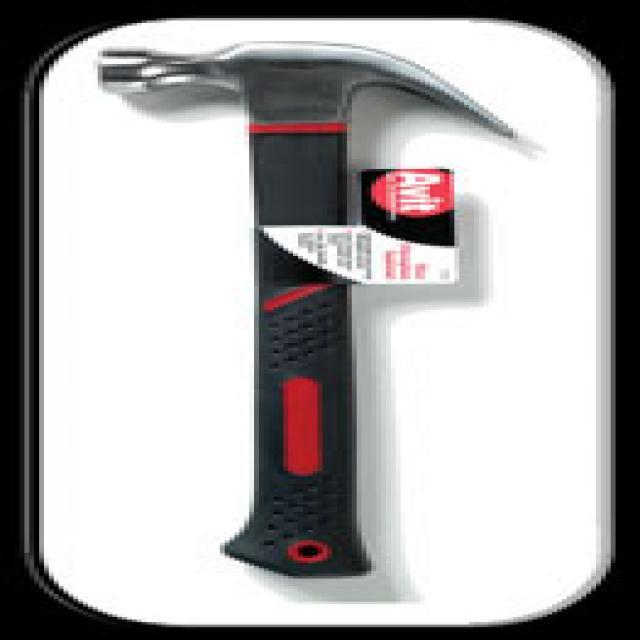hammer: (82, 37, 526, 584)
